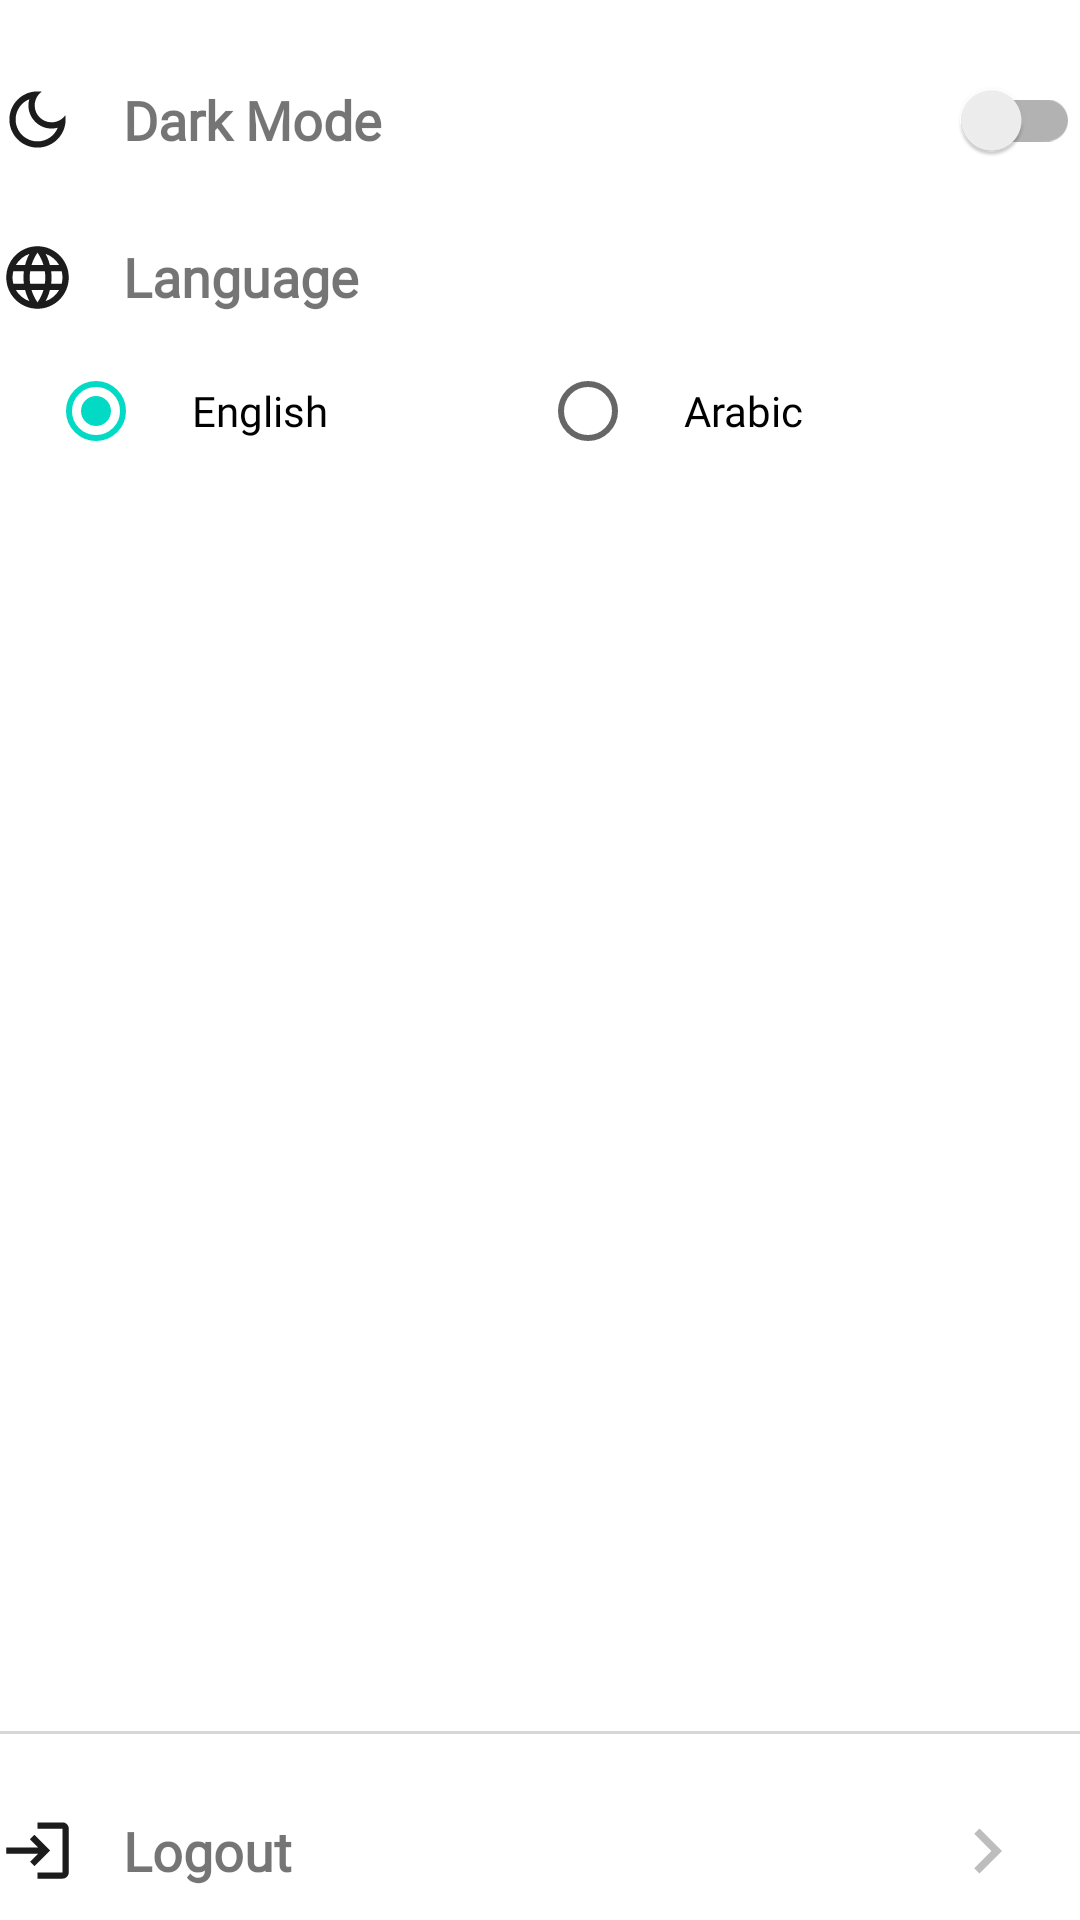

Where icons sit on this 1080x1920 app screen, as (x1, y1, x2, y2):
next: (974, 1829, 1002, 1873)
theme: (9, 91, 66, 148)
